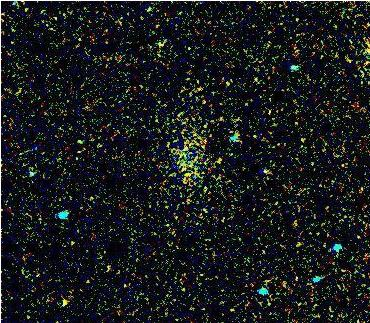star: (49, 287, 79, 317)
